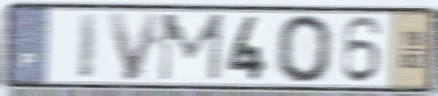4: (225, 14, 269, 83)
6: (340, 14, 385, 86)
I: (76, 11, 100, 82)
M: (156, 12, 226, 84)
O: (275, 12, 335, 86)
V: (105, 11, 165, 84)
